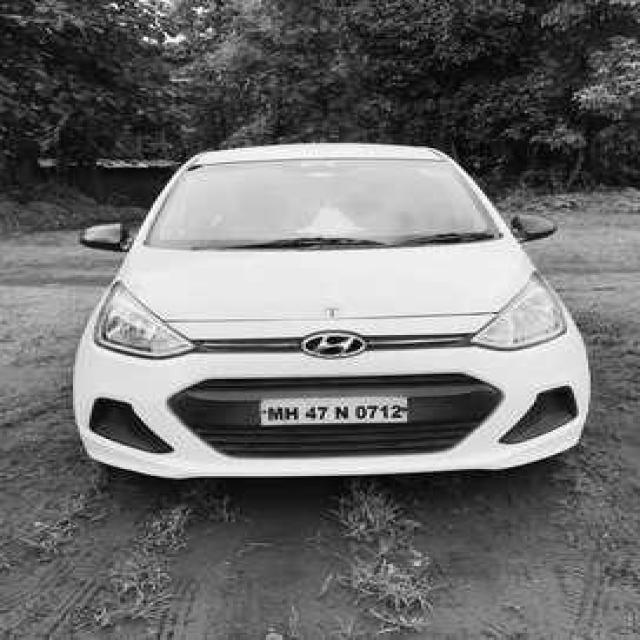car: (68, 134, 600, 502)
license-plate: (259, 397, 414, 428)
